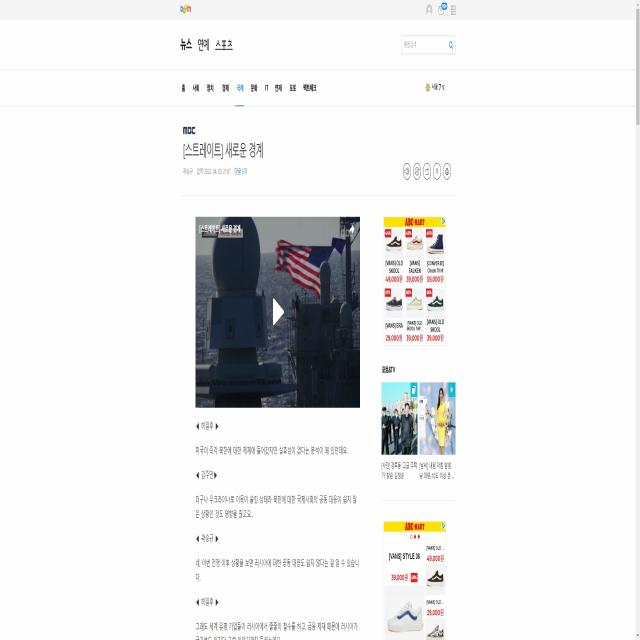menu-bar: (422, 1, 458, 20)
search: (399, 32, 457, 58)
tab-bar: (178, 70, 322, 110)
